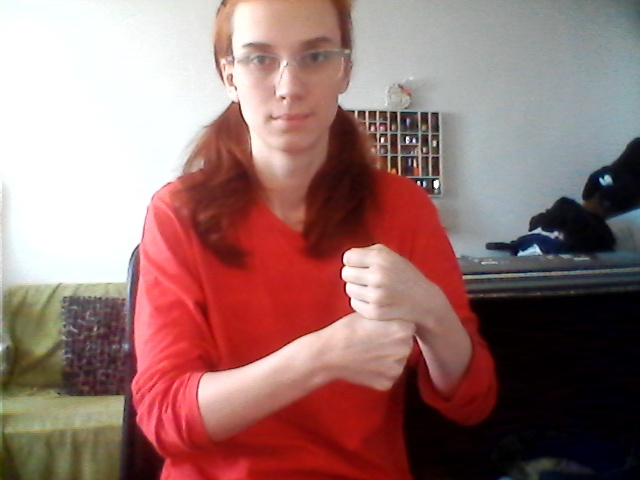g: (314, 232, 432, 404)
